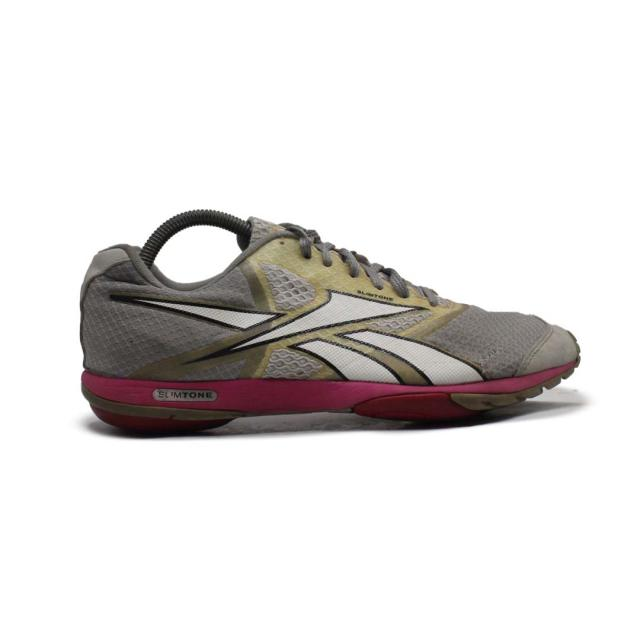heel: (79, 248, 151, 370)
midsole: (75, 361, 582, 433)
uppersole: (108, 211, 581, 382)
